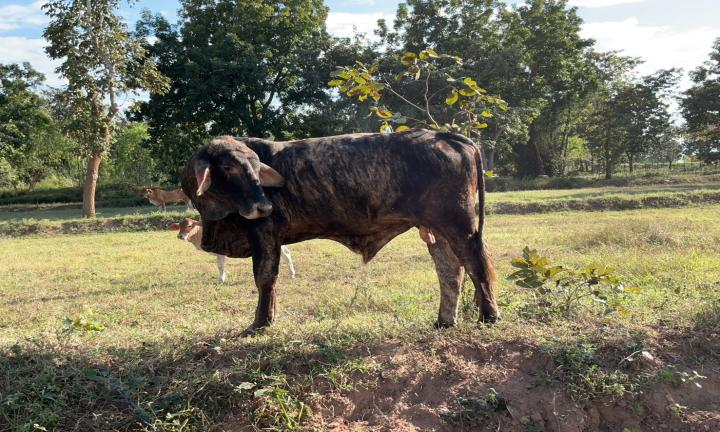Charolais: (182, 129, 498, 334)
